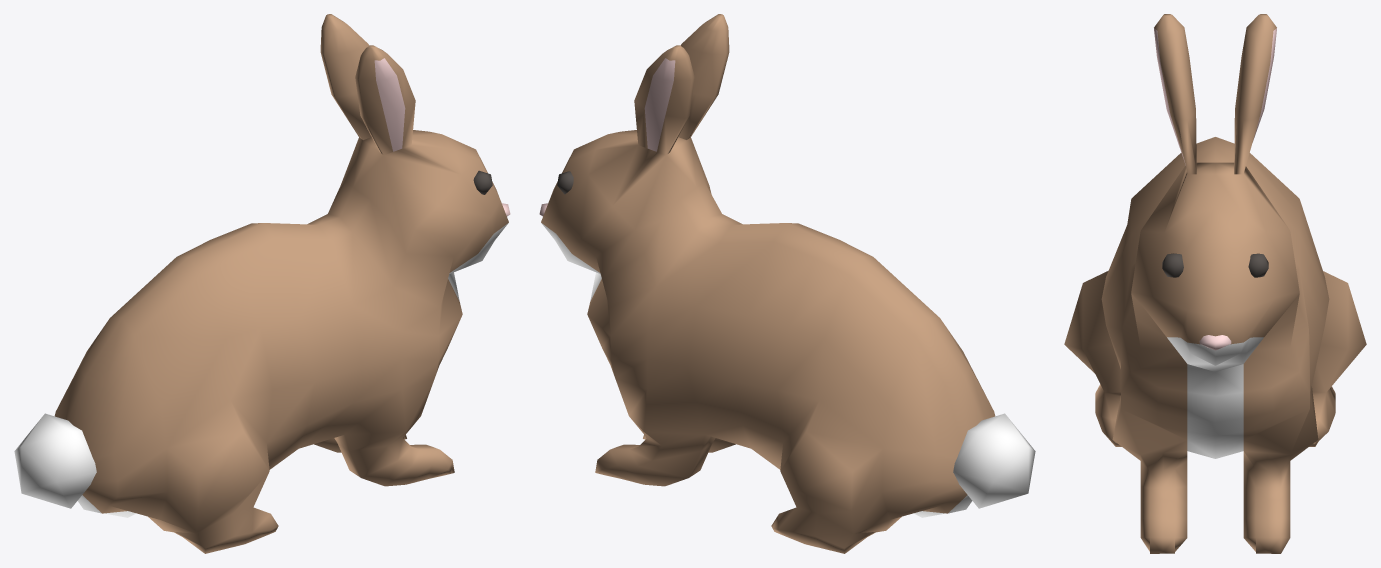
File: rabbit_1.glb
The picture shows the model from 3 angles, left to right: view 1: azimuth 30°, elevation 25°; view 2: azimuth 150°, elevation 25°; view 3: azimuth 270°, elevation 25°; orthographic projection. The views are drawn at different scales.
Visible parts, largest first — view 1: Rabbit; view 2: Rabbit; view 3: Rabbit.
Boxes of the visible parts, x1,y1,x2,y2 form: Rabbit: (14,14,510,553); Rabbit: (539,14,1035,553); Rabbit: (1064,14,1366,553).
Size of the model in its own units: 2.16 by 1.87 by 1.03.
